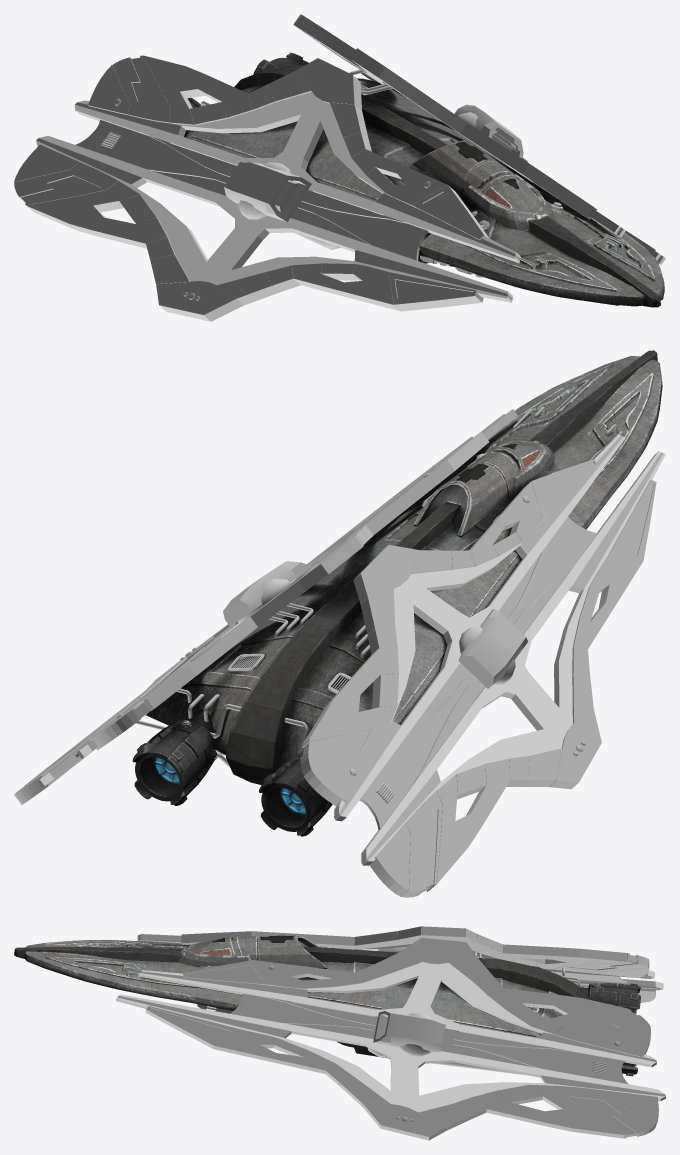
3 renders of one model, top to bottom at view 1: azimuth 30°, elevation 25°; view 2: azimuth 150°, elevation 25°; view 3: azimuth 270°, elevation 25°, orthographic. The views are drawn at different scales.
Parts seen in each view (by area): view 1: 13897_Sci-Fi_Fighter_Ship_v1_l1; view 2: 13897_Sci-Fi_Fighter_Ship_v1_l1; view 3: 13897_Sci-Fi_Fighter_Ship_v1_l1.
Boxes of the visible parts, bbox=[...] form: 13897_Sci-Fi_Fighter_Ship_v1_l1: bbox=[14, 14, 665, 321]; 13897_Sci-Fi_Fighter_Ship_v1_l1: bbox=[14, 350, 665, 897]; 13897_Sci-Fi_Fighter_Ship_v1_l1: bbox=[14, 926, 665, 1140].
Bounding box in the file's own units: 2328 × 1048 × 4412.
